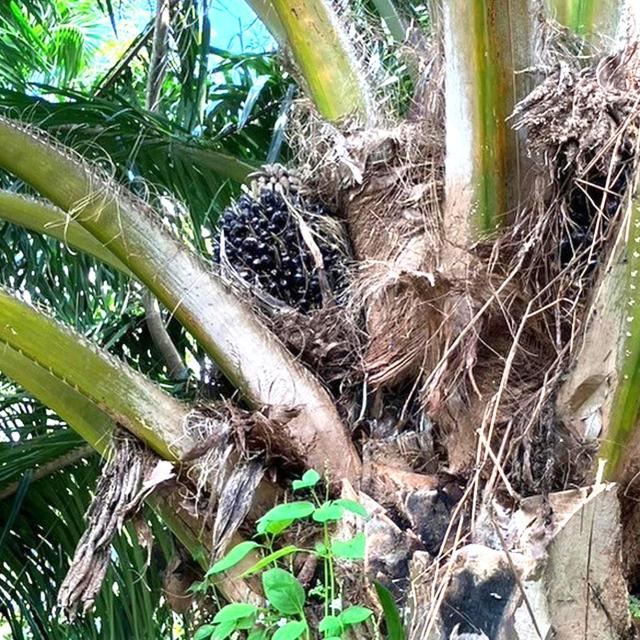unripe: (205, 170, 363, 340)
